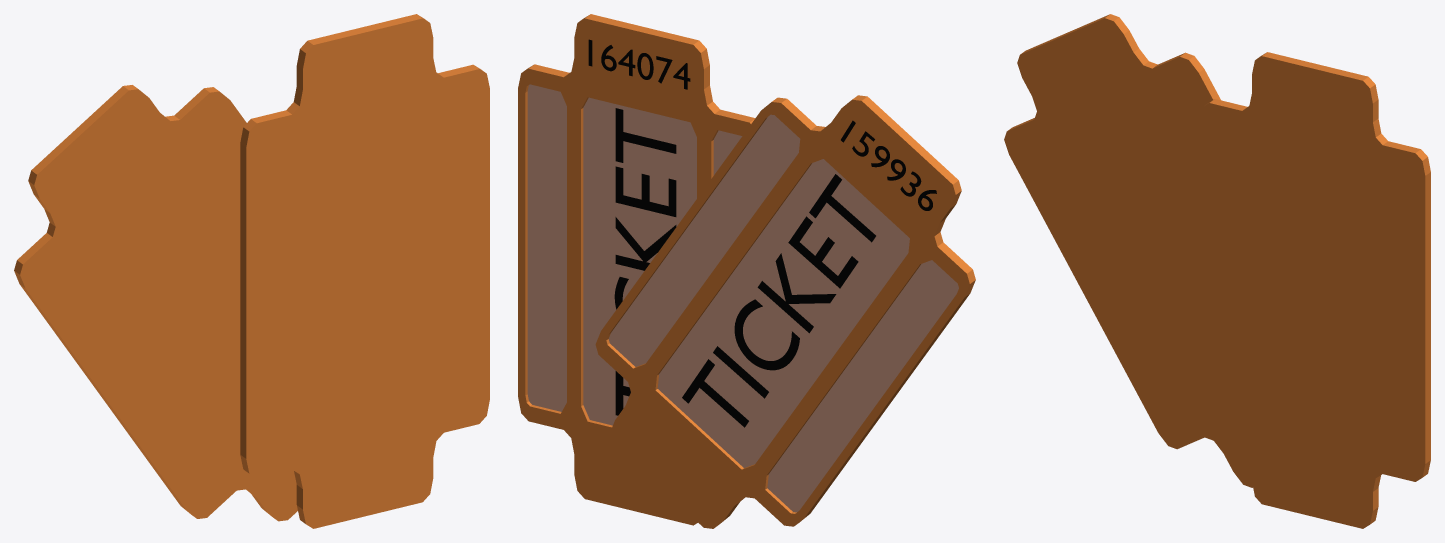
Rendered from TicketStubs.fbx.
3 renders of one model, left to right at view 1: azimuth 30°, elevation 25°; view 2: azimuth 150°, elevation 25°; view 3: azimuth 330°, elevation 25°, orthographic. The views are drawn at different scales.
Parts seen in each view (by area): view 1: Ticket1; view 2: Ticket1; view 3: Ticket1.
Boxes of the visible parts, x1=… form: Ticket1: x1=14, y1=14, x2=489, y2=528; Ticket1: x1=518, y1=14, x2=975, y2=528; Ticket1: x1=1004, y1=14, x2=1430, y2=528.
Bounding box in the file's own units: 692 × 692 × 37.11.
